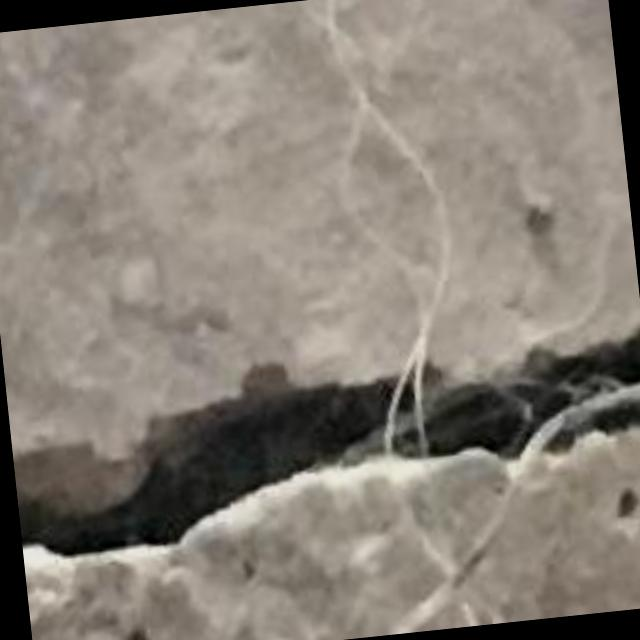crack: (12, 331, 639, 556)
